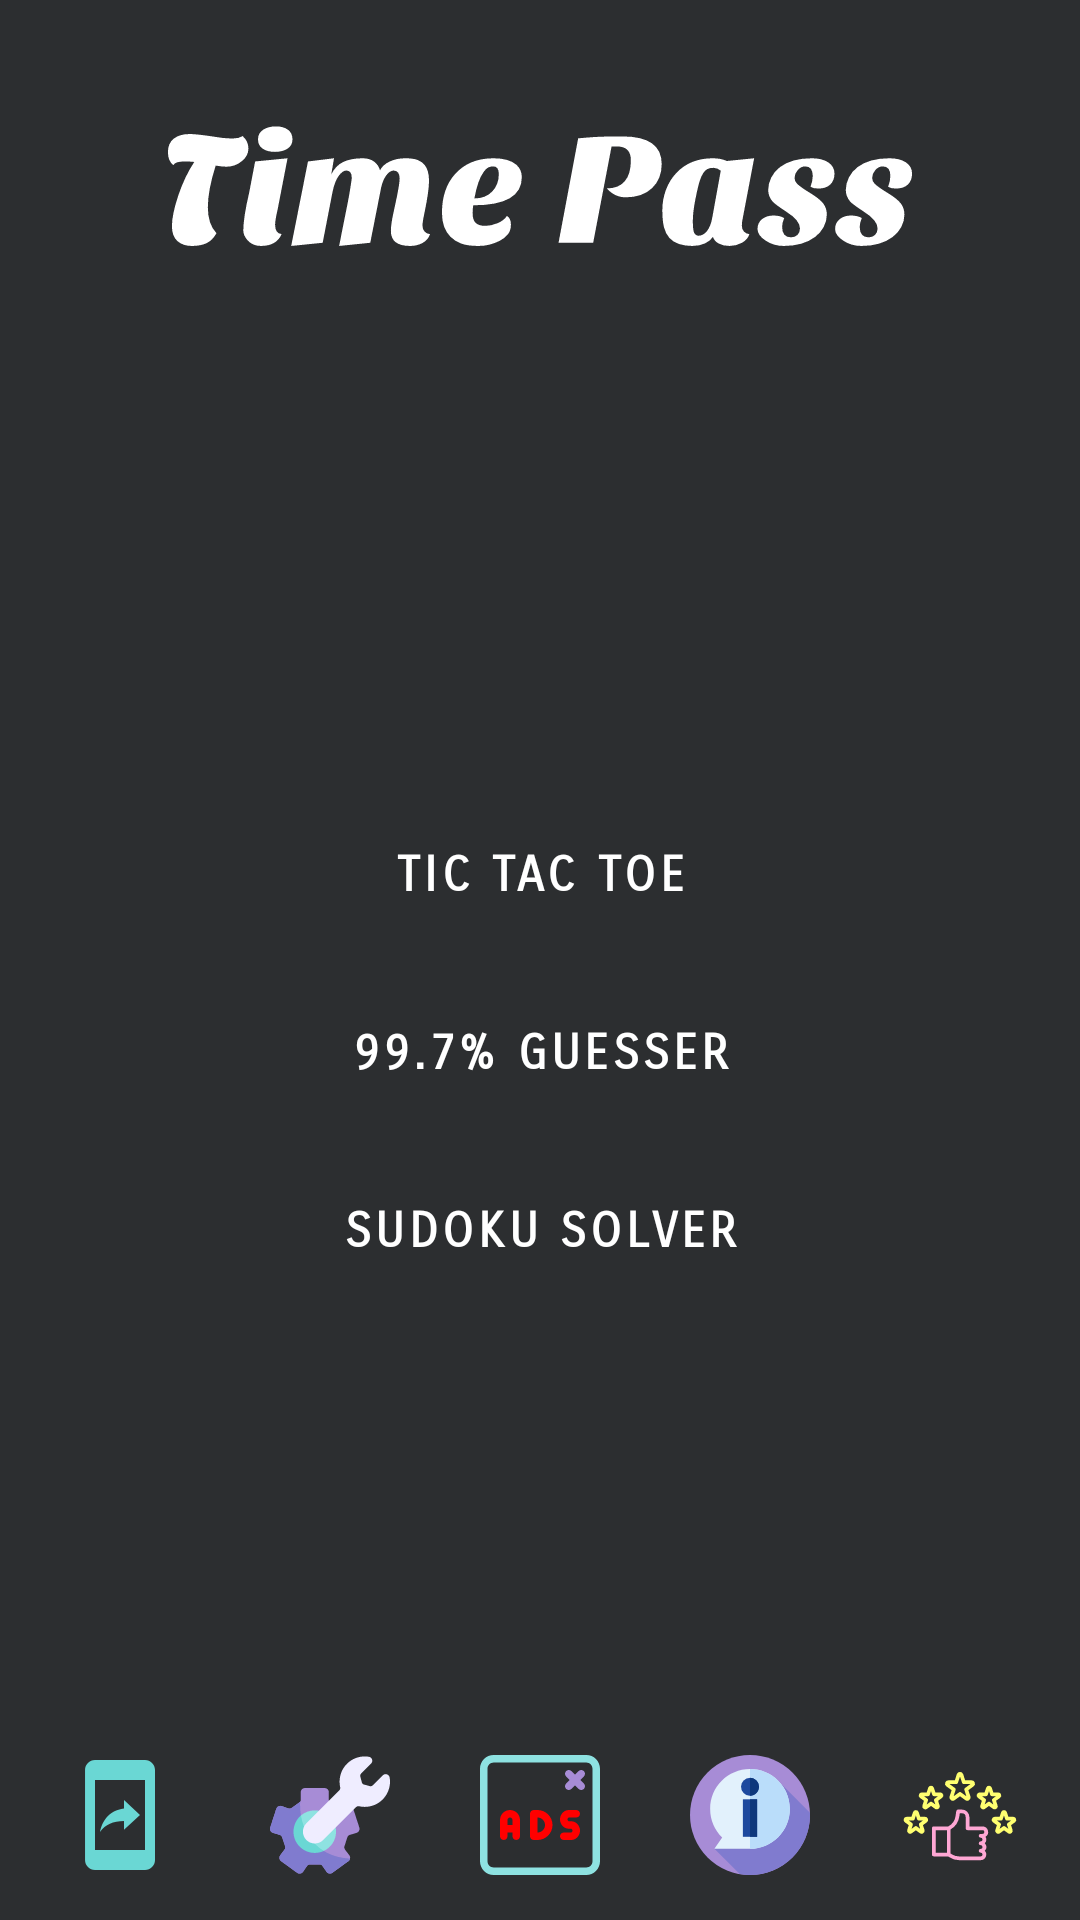

Icons on this 1080×1920 Android screen, each with its box as detection(x1, y1, x2, y2):
info: detection(690, 1755, 810, 1875)
mobile screen share: detection(85, 1760, 155, 1870)
rate: detection(903, 1772, 1017, 1861)
remove ads: detection(480, 1755, 600, 1875)
settings: detection(270, 1756, 390, 1874)
